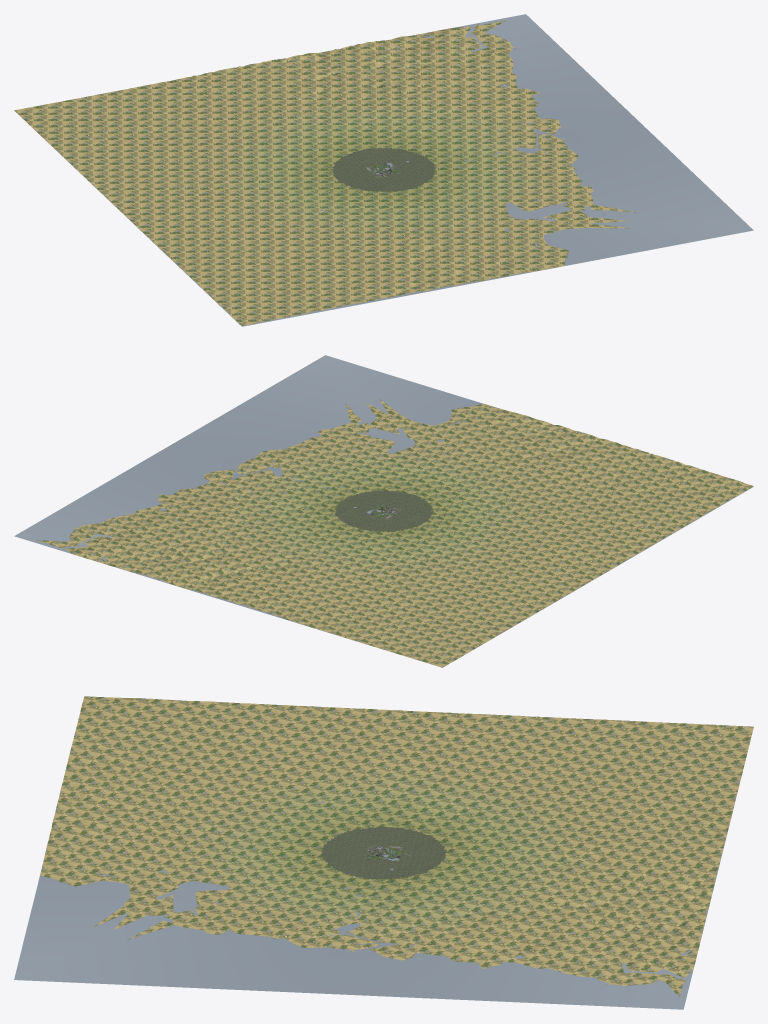
Rendered from engie_backdrop_part1.glb.
3 renders of one model, top to bottom at view 1: azimuth 30°, elevation 25°; view 2: azimuth 150°, elevation 25°; view 3: azimuth 270°, elevation 25°, orthographic. The views are drawn at different scales.
Parts seen in each view (by area): view 1: bg_far_terrain, bg_far_water, bg_far_suburb; view 2: bg_far_terrain, bg_far_water, bg_far_suburb; view 3: bg_far_terrain, bg_far_water, bg_far_suburb.
Boxes of the visible parts, left/top/right/bottom form: bg_far_terrain: left=14, top=20, right=636, bottom=325; bg_far_water: left=15, top=14, right=753, bottom=326; bg_far_suburb: left=332, top=147, right=435, bottom=192; bg_far_terrain: left=36, top=399, right=753, bottom=667; bg_far_water: left=14, top=355, right=753, bottom=660; bg_far_suburb: left=335, top=490, right=433, bottom=532; bg_far_terrain: left=40, top=696, right=753, bottom=997; bg_far_water: left=14, top=801, right=734, bottom=1009; bg_far_suburb: left=321, top=826, right=446, bottom=879.
Size of the model in its own units: 65943 by 294 by 65943.
34 materials, 22 textured.
